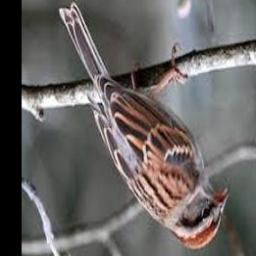Sparrow: (59, 1, 230, 250)
